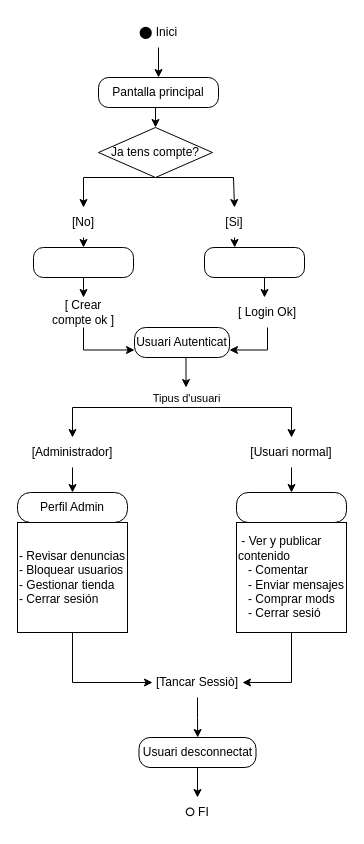
This 364x844 diagram has some shape labels left out. Each missing label, with the box of its shape:
Inici de sessió: (204, 246, 304, 278)
Perfil User: (236, 492, 346, 522)
Registrarse: (32, 246, 134, 278)
